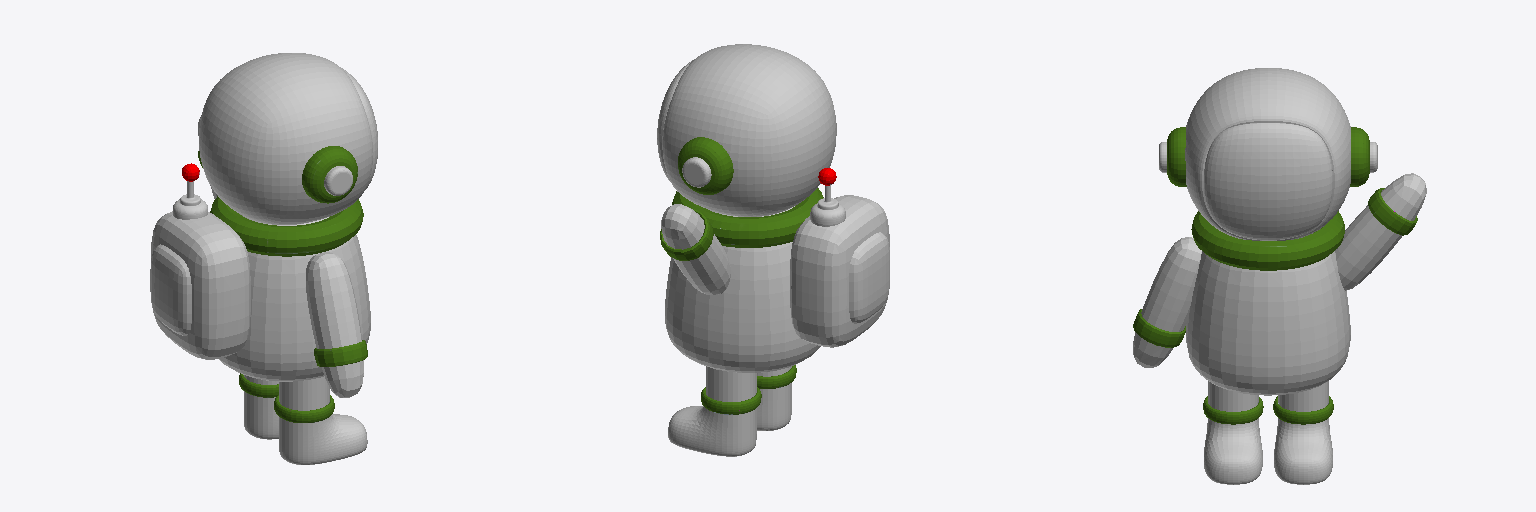
The picture shows the model from 3 angles: view 1: azimuth 30°, elevation 25°; view 2: azimuth 150°, elevation 25°; view 3: azimuth 270°, elevation 25°; orthographic projection.
Parts seen in each view (by area): view 1: Torus; view 2: Torus; view 3: Torus.
Boxes of the visible parts, box(x1,y1,x2,y2) form: Torus: box(150, 53, 377, 464); Torus: box(657, 44, 889, 456); Torus: box(1133, 68, 1426, 484).
Bounding box in the file's own units: 1.97 × 3.56 × 2.48.
4 materials, 1 textured.